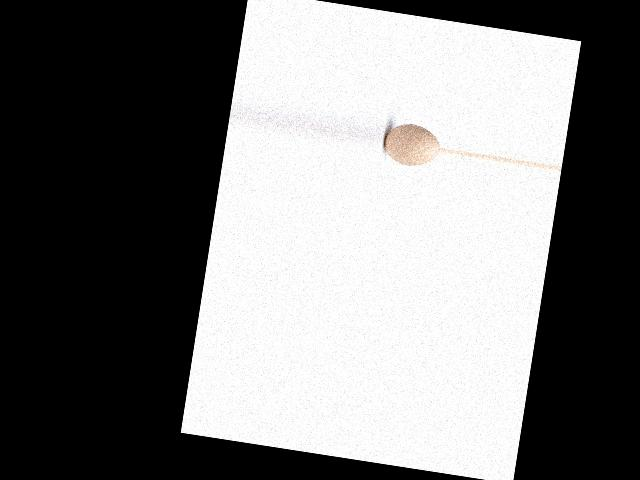egg: (381, 121, 442, 169)
